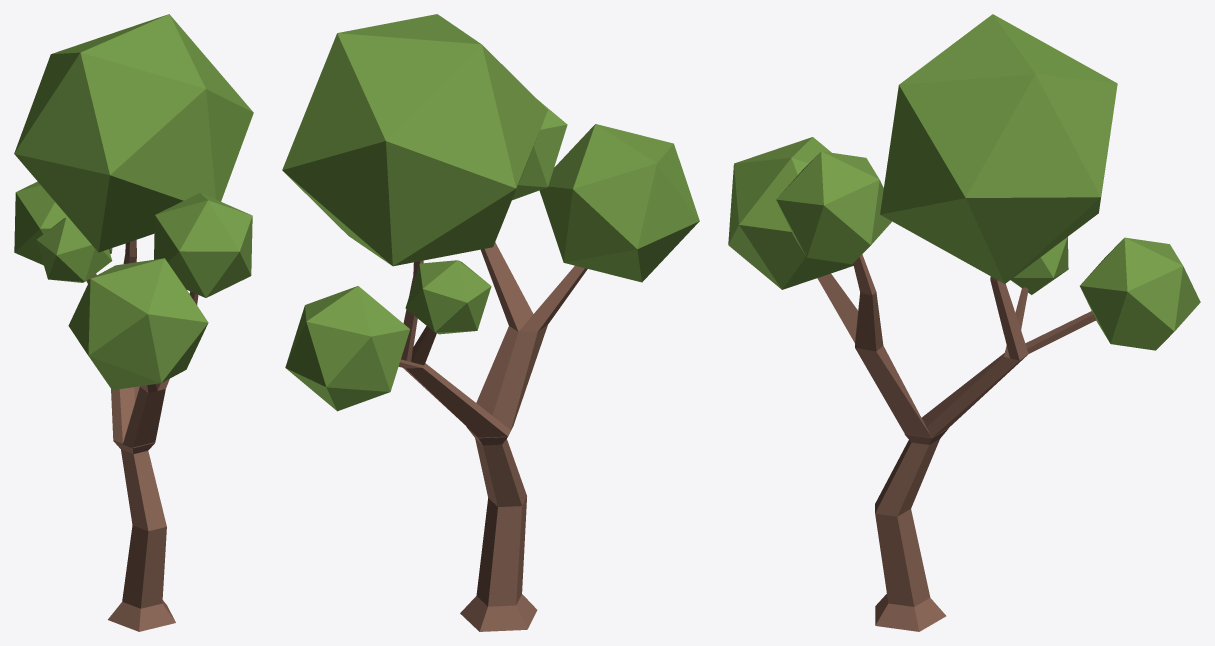
The model's file is Tree2.fbx.
The picture shows the model from 3 angles, left to right: view 1: azimuth 30°, elevation 25°; view 2: azimuth 150°, elevation 25°; view 3: azimuth 270°, elevation 25°; orthographic projection. The views are drawn at different scales.
Parts seen in each view (by area): view 1: Icosphere.008; view 2: Icosphere.008; view 3: Icosphere.008.
Boxes of the visible parts, <box> form: Icosphere.008: <box>14,14,253,631</box>; Icosphere.008: <box>282,14,699,631</box>; Icosphere.008: <box>728,14,1200,631</box>.
Size of the model in its own units: 178 by 364 by 264.
